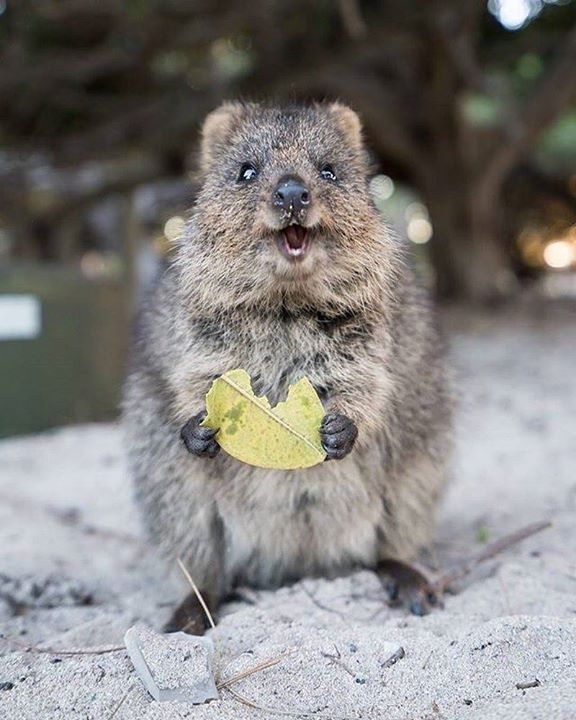quokka: (96, 84, 492, 653)
